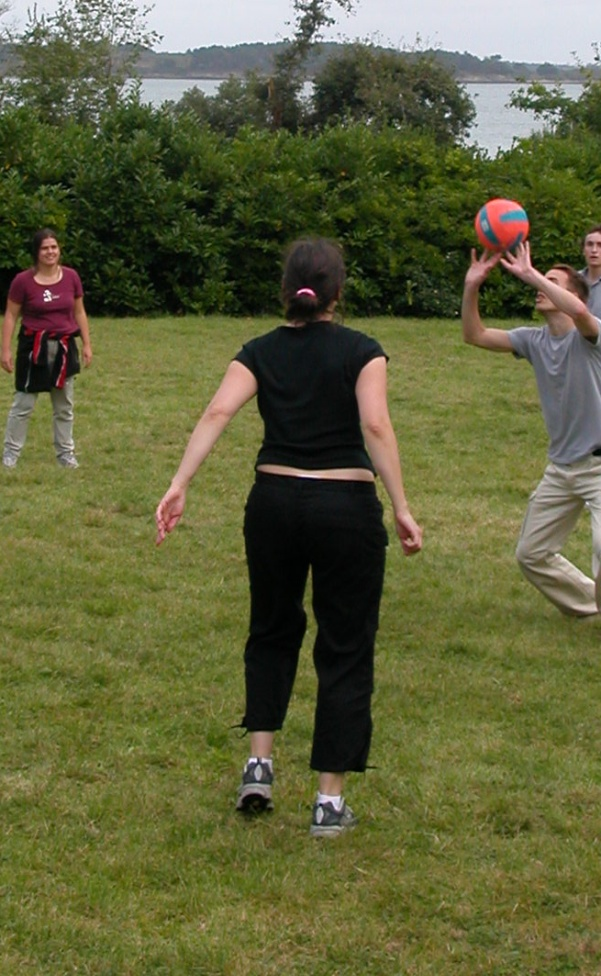person: (155, 237, 433, 838)
